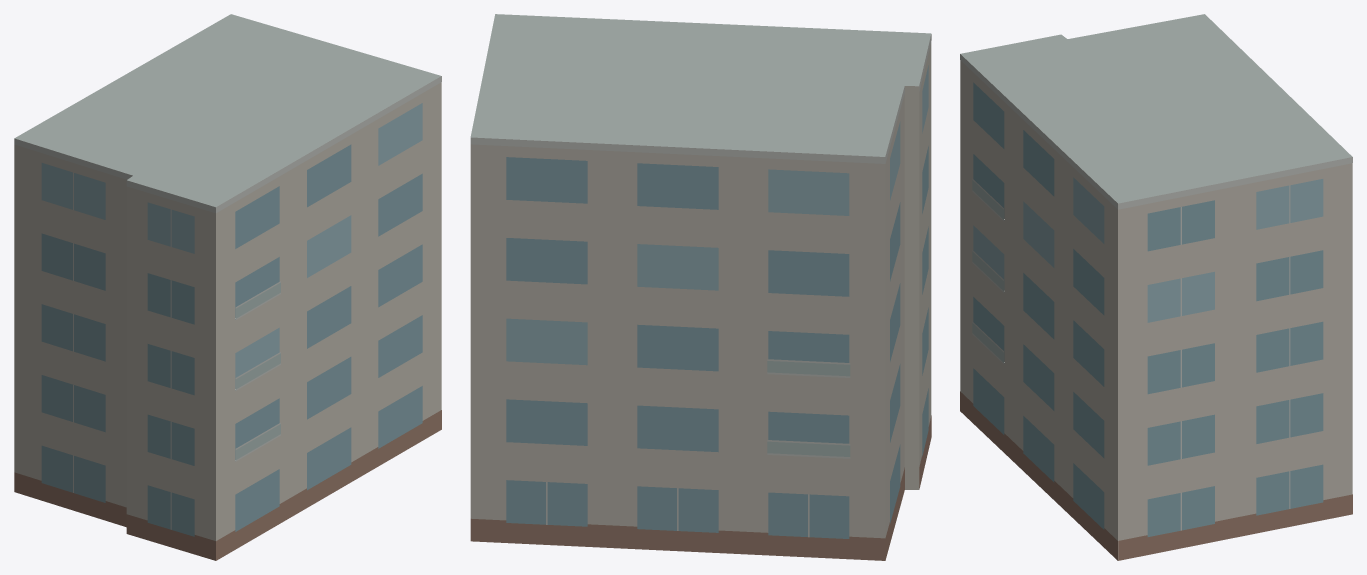
Rendered from survey-upis-32979806.glb.
3 renders of one model, left to right at view 1: azimuth 30°, elevation 25°; view 2: azimuth 150°, elevation 25°; view 3: azimuth 270°, elevation 25°, orthographic. The views are drawn at different scales.
Parts seen in each view (by area): view 1: survey-upis-32979806.tmp; view 2: survey-upis-32979806.tmp; view 3: survey-upis-32979806.tmp.
Part boxes in pixels (left/top/right/bottom): survey-upis-32979806.tmp: left=14, top=14, right=441, bottom=560; survey-upis-32979806.tmp: left=470, top=14, right=931, bottom=560; survey-upis-32979806.tmp: left=960, top=14, right=1352, bottom=560.
Size of the model in its own units: 16.17 by 14.2 by 14.15.
